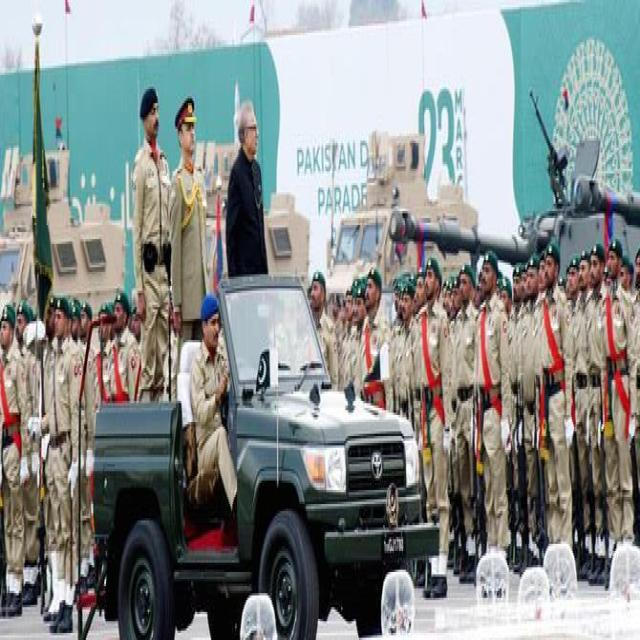Tanks: (399, 128, 635, 259)
